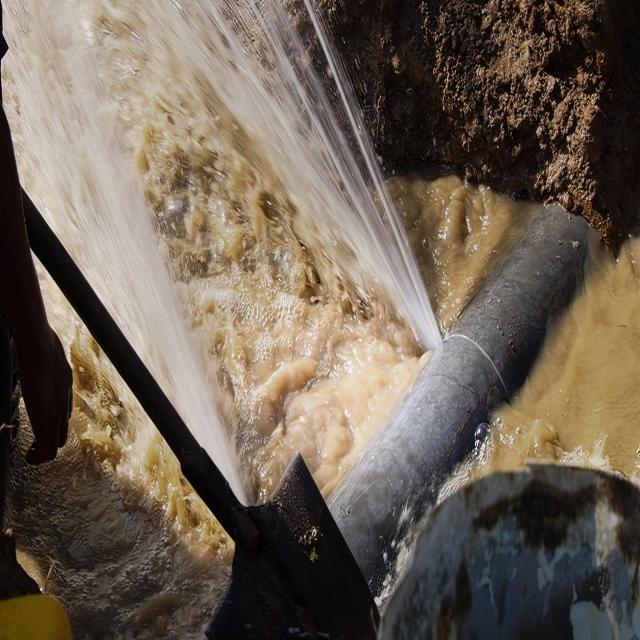leak: (4, 2, 246, 502), (151, 0, 441, 349)
